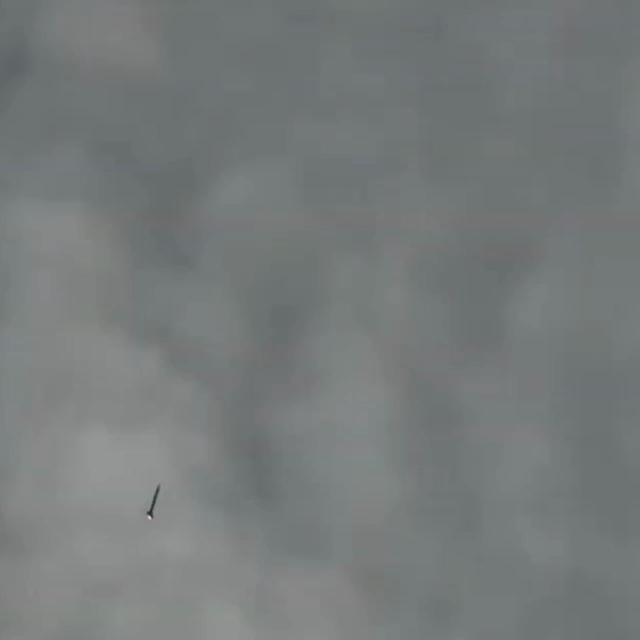rocket: (144, 485, 160, 519)
